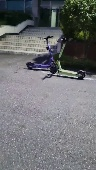beam: (25, 33, 56, 73)
gcooter: (51, 36, 86, 80)
